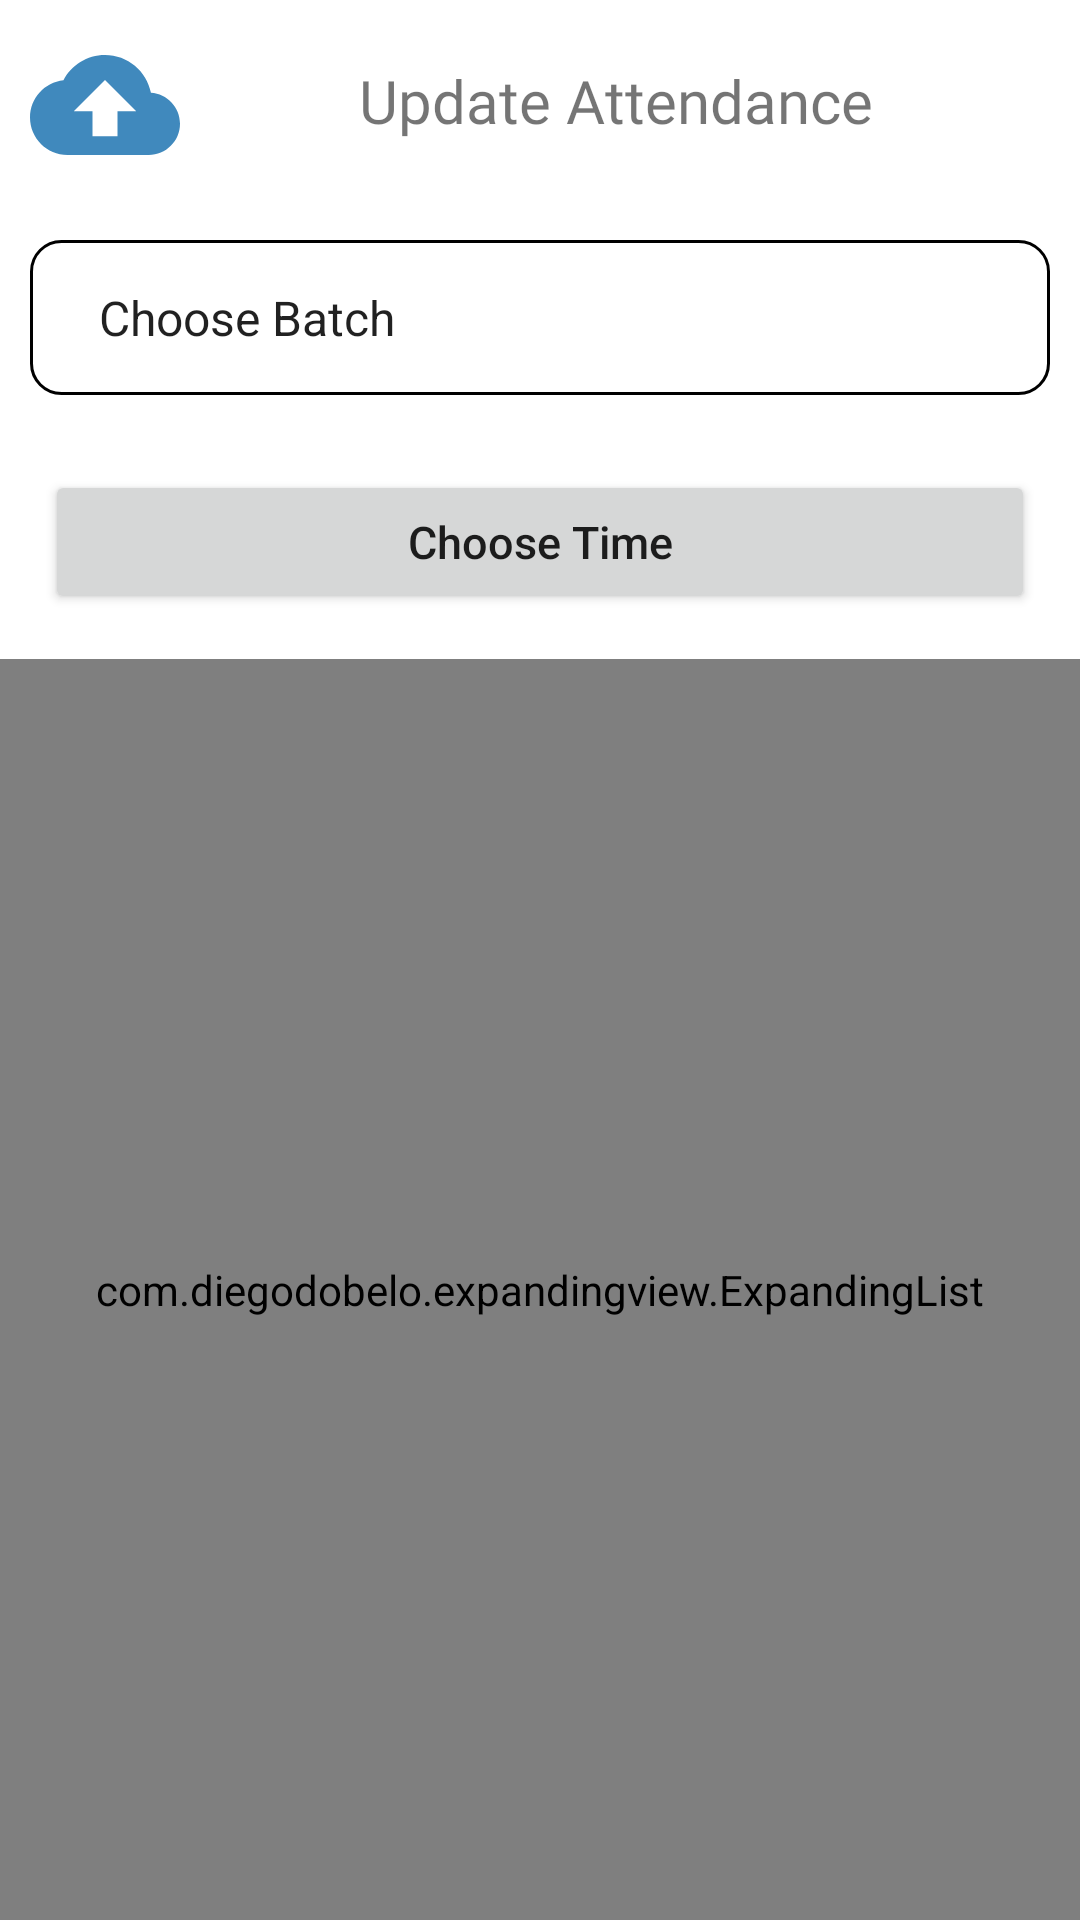

Icon click points for this 1080w x 1920h phone screenshot, format point (x, y):
cloud upload: point (105, 105)
